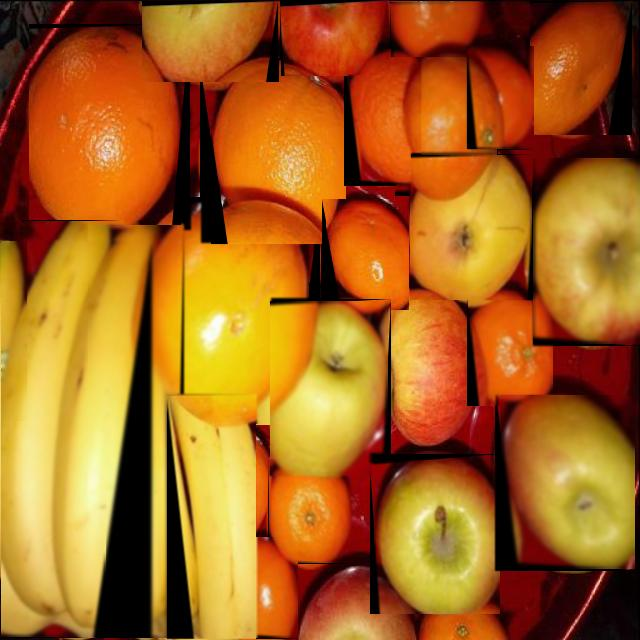Apple: (501, 395, 634, 569), (270, 302, 388, 475), (533, 159, 639, 344), (374, 460, 500, 614), (411, 155, 532, 300), (142, 1, 277, 82), (280, 1, 388, 76)
Banana: (23, 221, 123, 614), (88, 225, 176, 638), (167, 396, 256, 640), (1, 495, 105, 637), (2, 241, 27, 417)
Orange: (147, 201, 308, 424), (29, 27, 181, 231), (211, 60, 345, 244), (396, 54, 496, 194), (530, 3, 625, 135), (348, 50, 420, 184), (326, 199, 409, 310), (470, 294, 552, 406), (269, 457, 355, 563), (467, 47, 534, 149), (245, 538, 297, 638), (391, 2, 484, 57)
